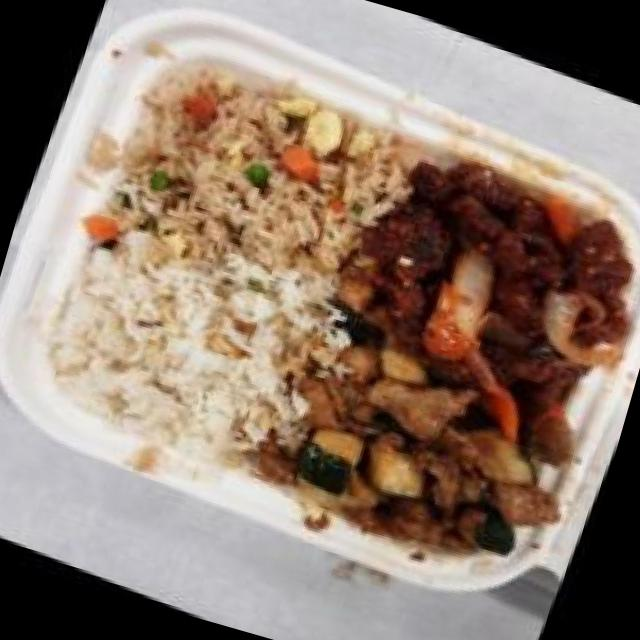Beijing Beef: (302, 121, 640, 452)
Fried Rice: (82, 29, 418, 344)
Kung Pao Chicken: (246, 300, 610, 602)
White Steamed Rice: (21, 233, 332, 492)
